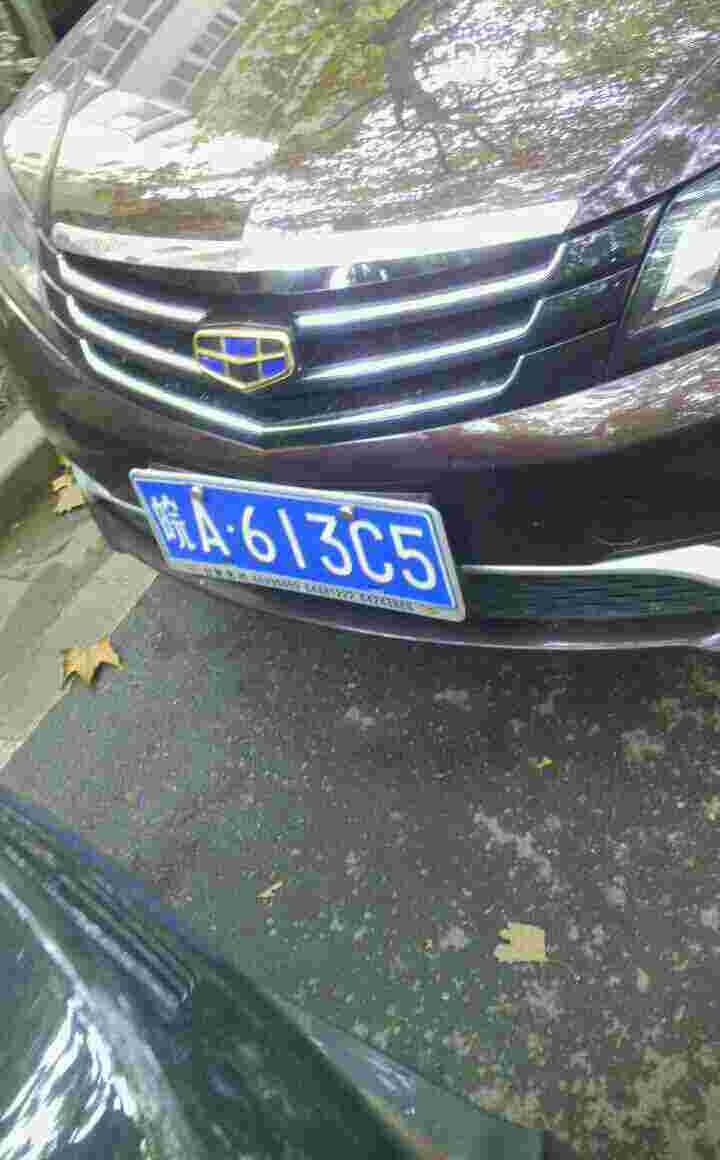license_plate: (146, 468, 454, 610)
